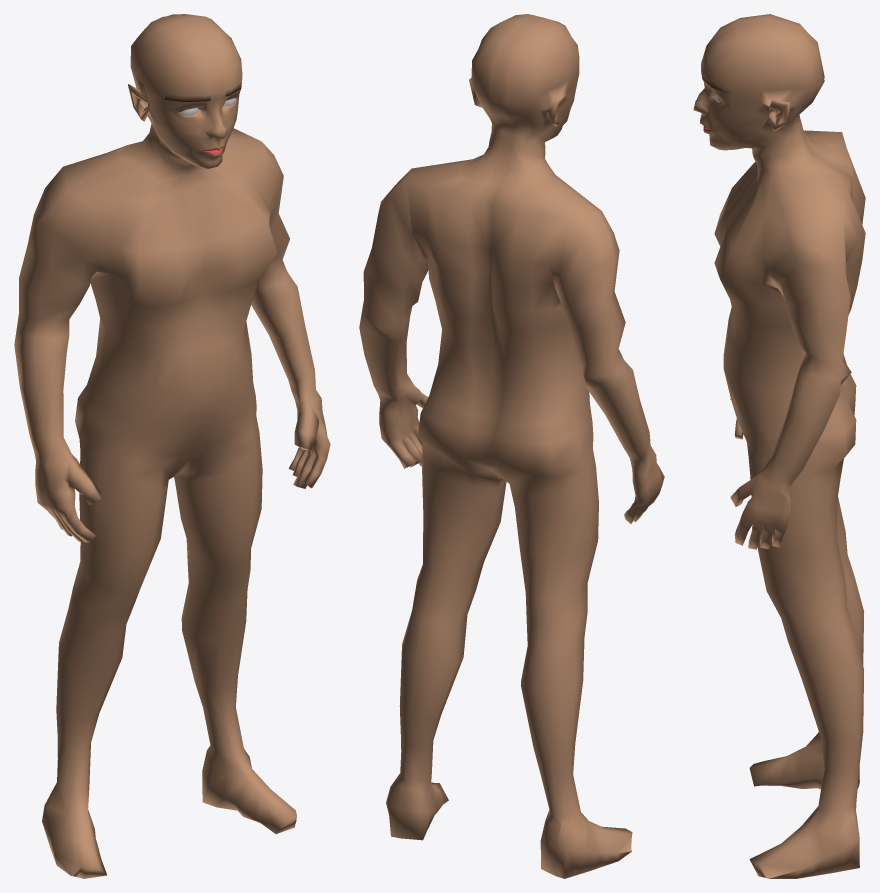
Rendered from ejemploCuerpo.glb.
3 renders of one model, left to right at view 1: azimuth 30°, elevation 25°; view 2: azimuth 150°, elevation 25°; view 3: azimuth 270°, elevation 25°, orthographic. The views are drawn at different scales.
Visible parts, largest first — view 1: body; view 2: body; view 3: body.
Part boxes in pixels (x1,y1,x2,y2): body: (14,14,330,878); body: (359,14,664,878); body: (693,14,865,878).
Size of the model in its own units: 2.18 by 6.18 by 1.2.
